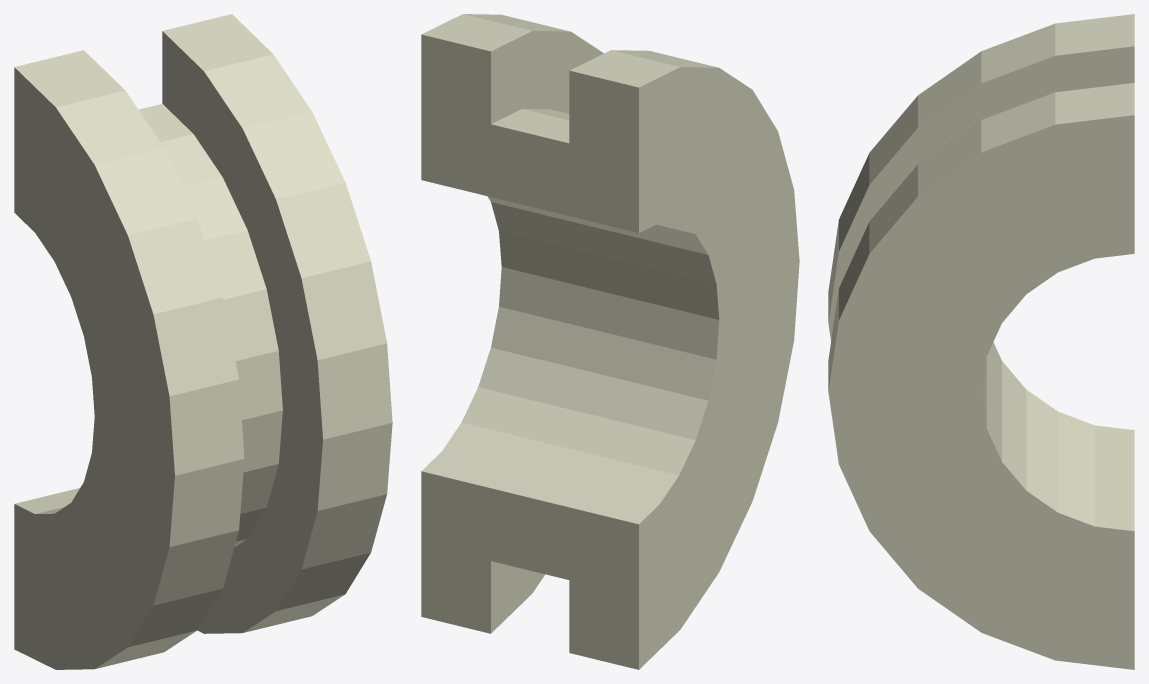
The model's file is section_360.obj.
The picture shows the model from 3 angles, left to right: view 1: azimuth 30°, elevation 25°; view 2: azimuth 150°, elevation 25°; view 3: azimuth 270°, elevation 25°; orthographic projection. The views are drawn at different scales.
Size of the model in its own units: 3.13 by 8 by 4.
